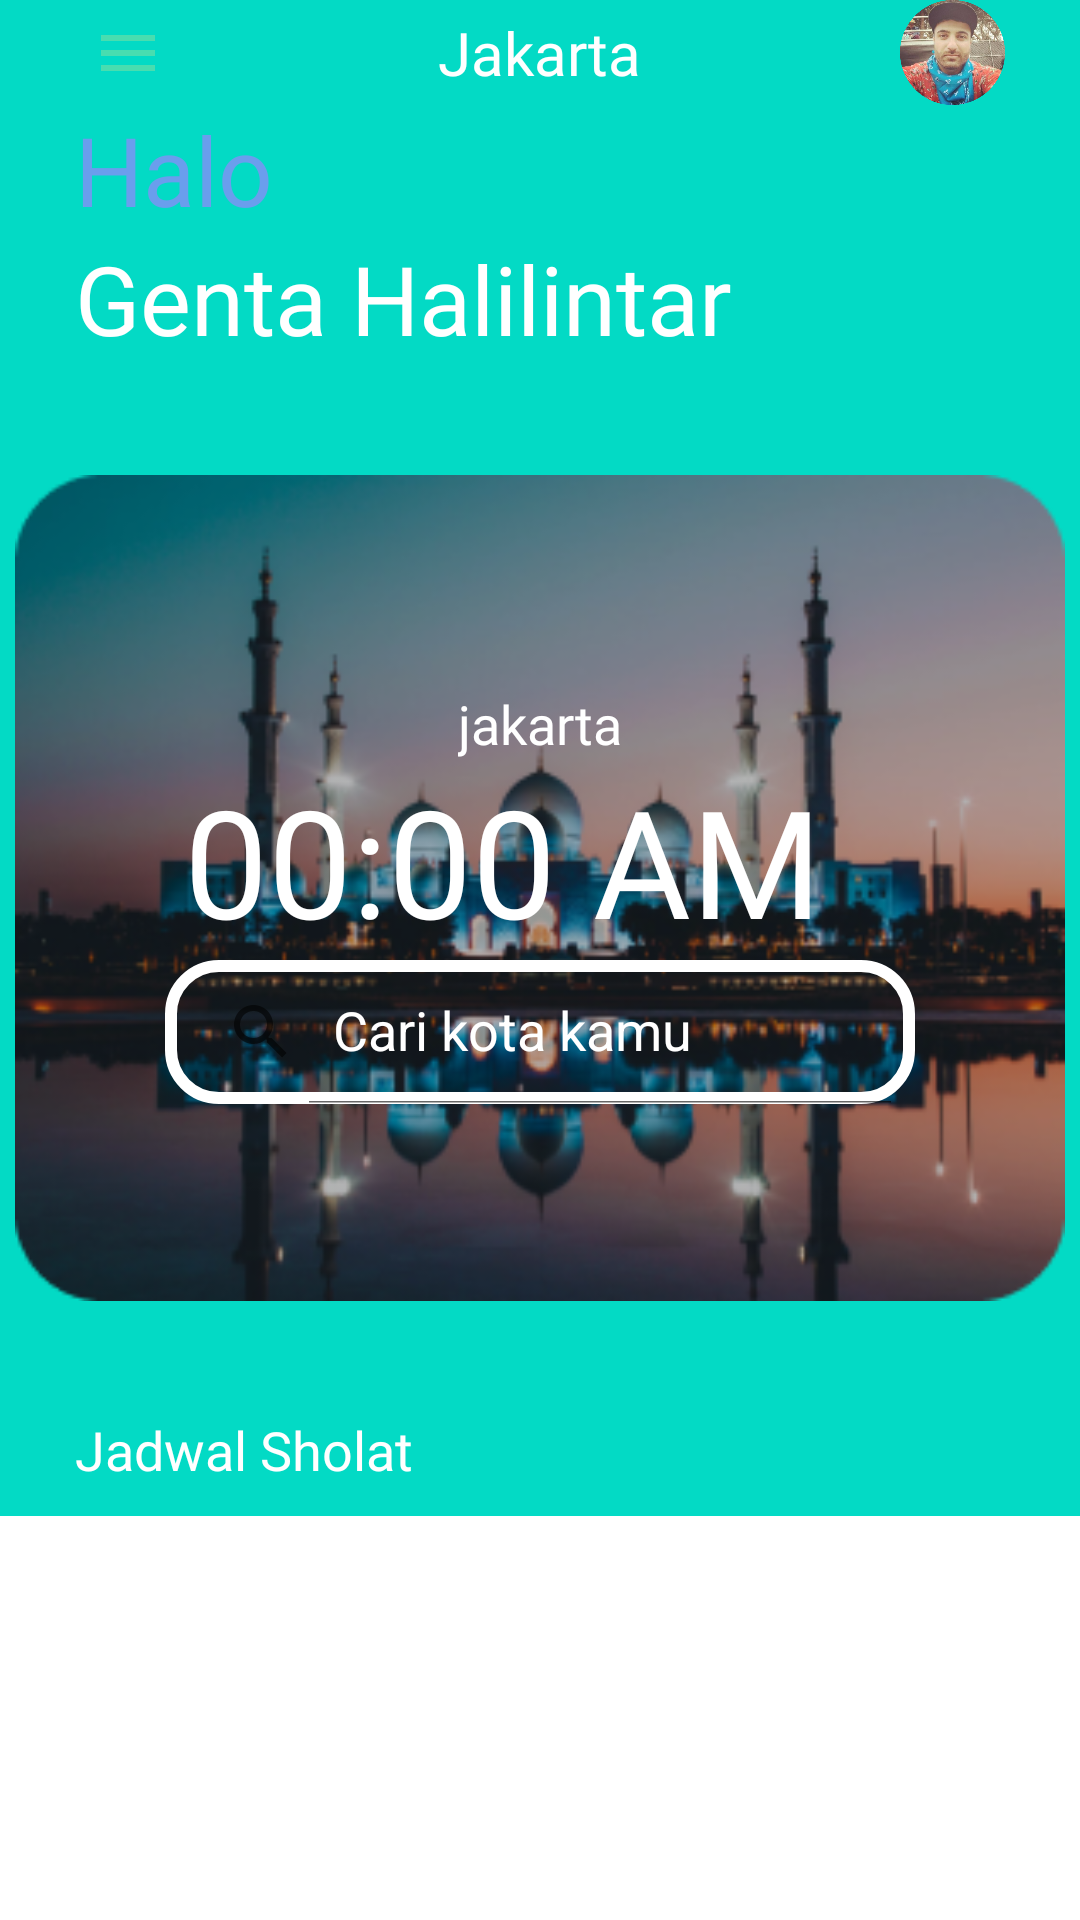

Icons on this 1080w x 1920h Android screen, each with the point to tap as point (x, y):
ex profile: point (952, 52)
menu: point (128, 53)
